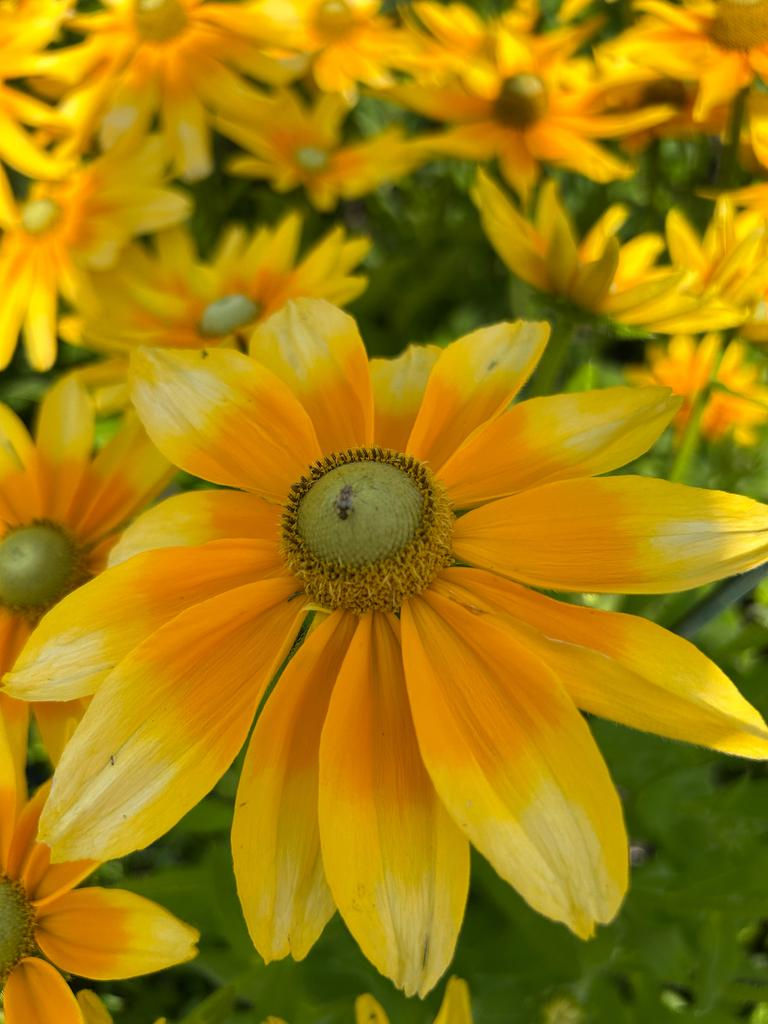plant_bugs: (317, 463, 376, 528)
